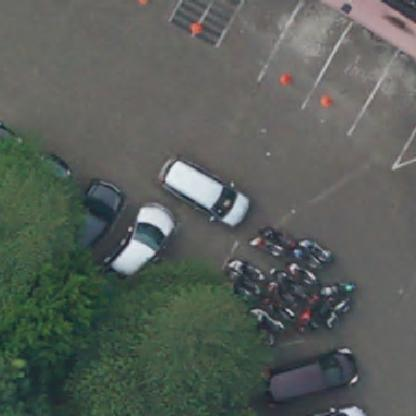car: (160, 152, 252, 234), (106, 203, 175, 300), (266, 350, 358, 397), (69, 180, 122, 251), (33, 151, 75, 187), (314, 404, 372, 415)
motorcycle: (325, 281, 357, 329), (250, 234, 282, 263), (226, 273, 264, 297), (249, 307, 281, 333), (262, 221, 296, 245), (295, 293, 317, 330), (290, 249, 322, 271), (305, 236, 332, 262), (292, 262, 319, 287), (230, 257, 262, 278), (311, 287, 329, 324), (278, 299, 299, 327), (270, 282, 292, 307), (281, 269, 297, 298)
